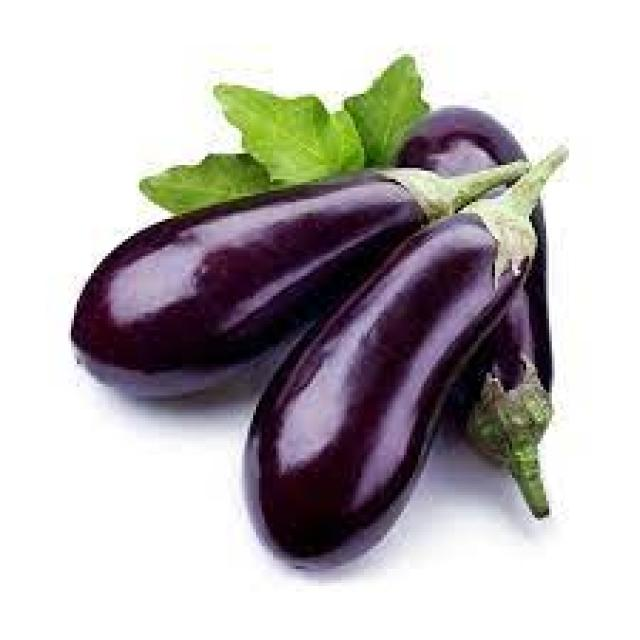eggplant: (242, 208, 520, 569), (71, 168, 447, 395), (392, 102, 552, 500)
